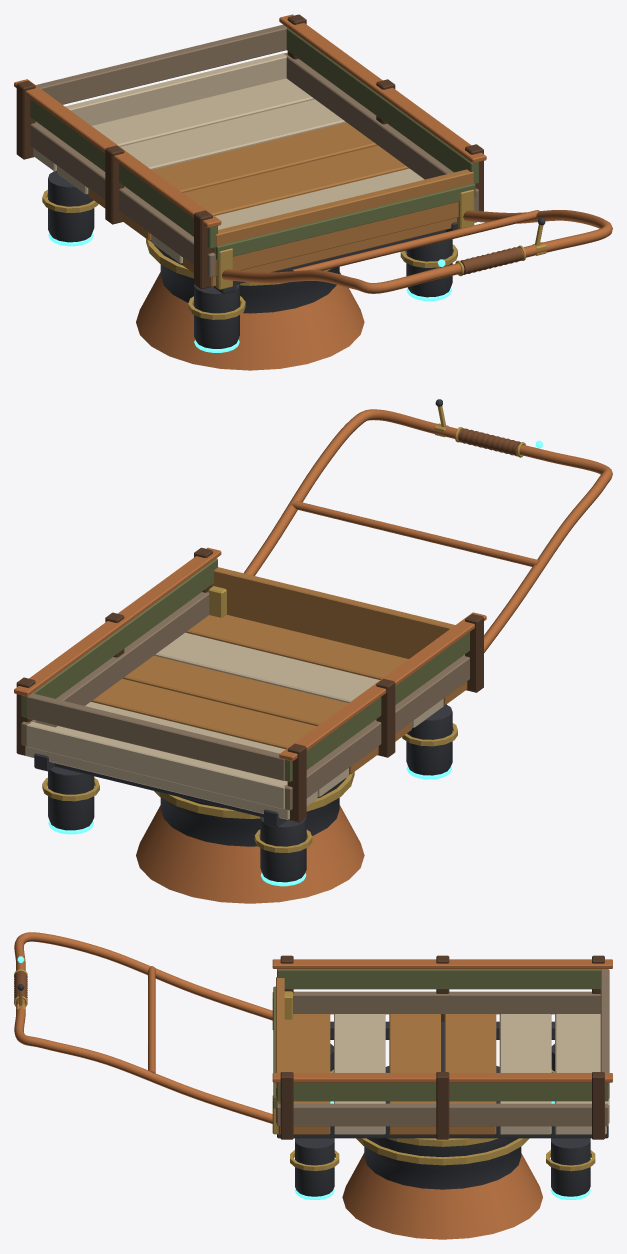
File: carry_cart_hover.fbx
3 renders of one model, top to bottom at view 1: azimuth 30°, elevation 25°; view 2: azimuth 150°, elevation 25°; view 3: azimuth 270°, elevation 25°, orthographic. The views are drawn at different scales.
Visible parts, largest first — view 1: Carry_Cart_Hover_Sides, Carry_Cart_Hover_Floor, Carry_Cart_Hover_HoverCore, Carry_Cart_Hover_Handle, Carry_Cart_Hover_Underframe, Carry_Cart_Hover_HoverGlow; view 2: Carry_Cart_Hover_Sides, Carry_Cart_Hover_Floor, Carry_Cart_Hover_HoverCore, Carry_Cart_Hover_Handle, Carry_Cart_Hover_Underframe, Carry_Cart_Hover_HoverGlow; view 3: Carry_Cart_Hover_Sides, Carry_Cart_Hover_HoverCore, Carry_Cart_Hover_Floor, Carry_Cart_Hover_Handle, Carry_Cart_Hover_Underframe.
Part boxes in pixels (x1,y1,x2,y2): Carry_Cart_Hover_Sides: (14,14,486,289); Carry_Cart_Hover_Floor: (33,78,474,286); Carry_Cart_Hover_HoverCore: (42,171,457,370); Carry_Cart_Hover_Handle: (215,189,612,293); Carry_Cart_Hover_Underframe: (56,171,457,294); Carry_Cart_Hover_HoverGlow: (48,232,452,352); Carry_Cart_Hover_Sides: (14,547,486,822); Carry_Cart_Hover_Floor: (25,615,467,819); Carry_Cart_Hover_HoverCore: (42,704,457,903); Carry_Cart_Hover_Handle: (208,399,612,652); Carry_Cart_Hover_Underframe: (34,704,444,827); Carry_Cart_Hover_HoverGlow: (48,766,451,886); Carry_Cart_Hover_Sides: (272,955,612,1139); Carry_Cart_Hover_HoverCore: (290,1043,595,1239); Carry_Cart_Hover_Floor: (278,1014,606,1134); Carry_Cart_Hover_Handle: (14,932,292,1134); Carry_Cart_Hover_Underframe: (277,1021,608,1138).
Bounding box in the file's own units: 98.9 × 89.35 × 206.
